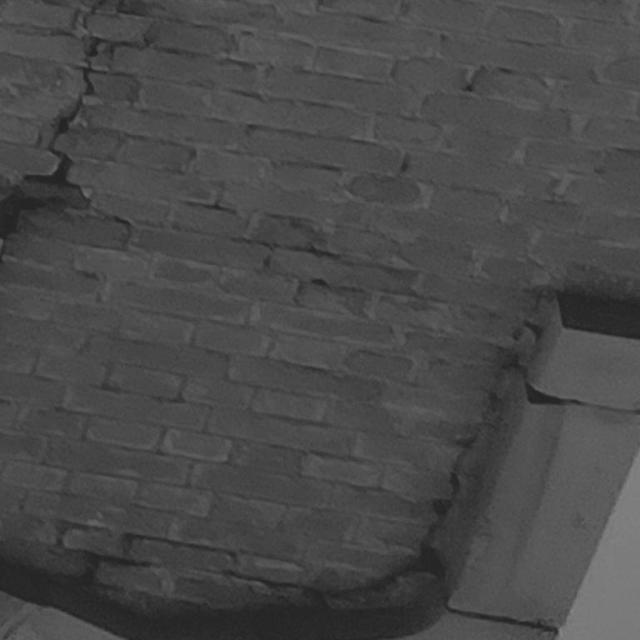crack: (222, 326, 523, 610), (1, 1, 149, 260), (56, 519, 214, 593)
